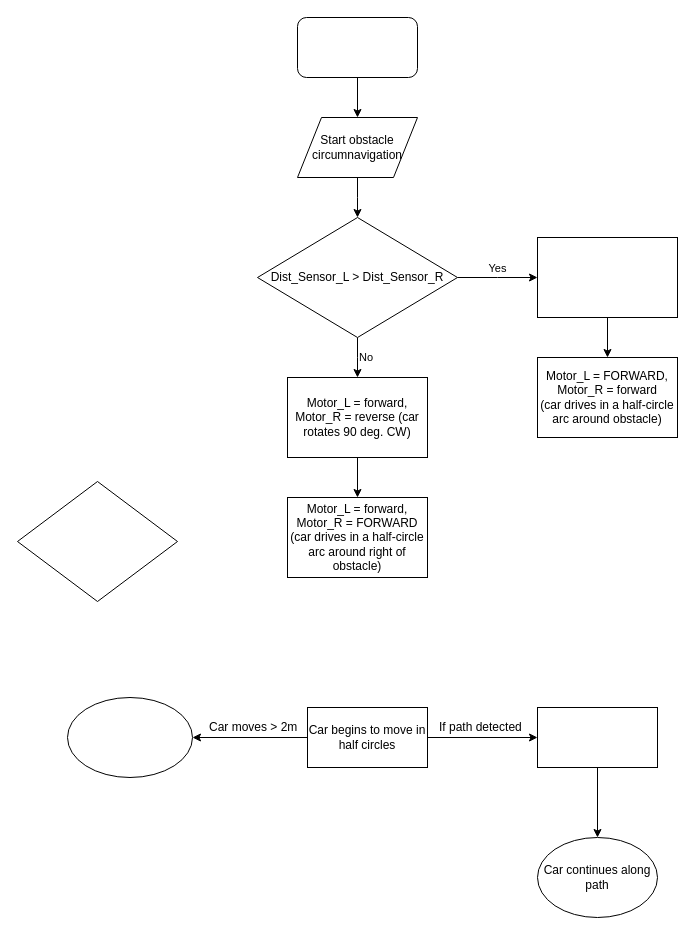
Image size: 695x935. Some labels were removed from this diagram. Here are the shapes that lost their labels. From the top down, the centre of each, then its label:
the point at 357,47: Car detects obstacle
the point at 607,277: Motor_L = reverse, Motor_R = forward (car rotates 90 deg. CCW)
the point at 129,737: Flash error message
the point at 597,737: Algorithm is terminated
